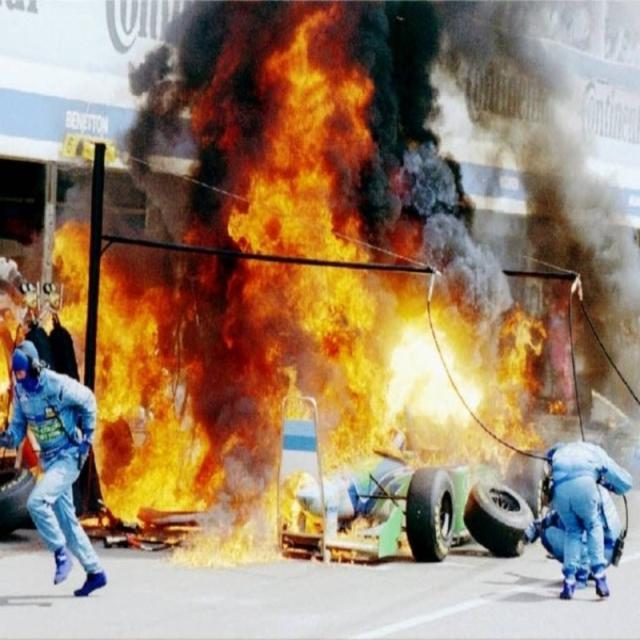Fire: (52, 25, 372, 566), (378, 216, 558, 487)
Smoke: (376, 8, 640, 208), (563, 217, 640, 445)
